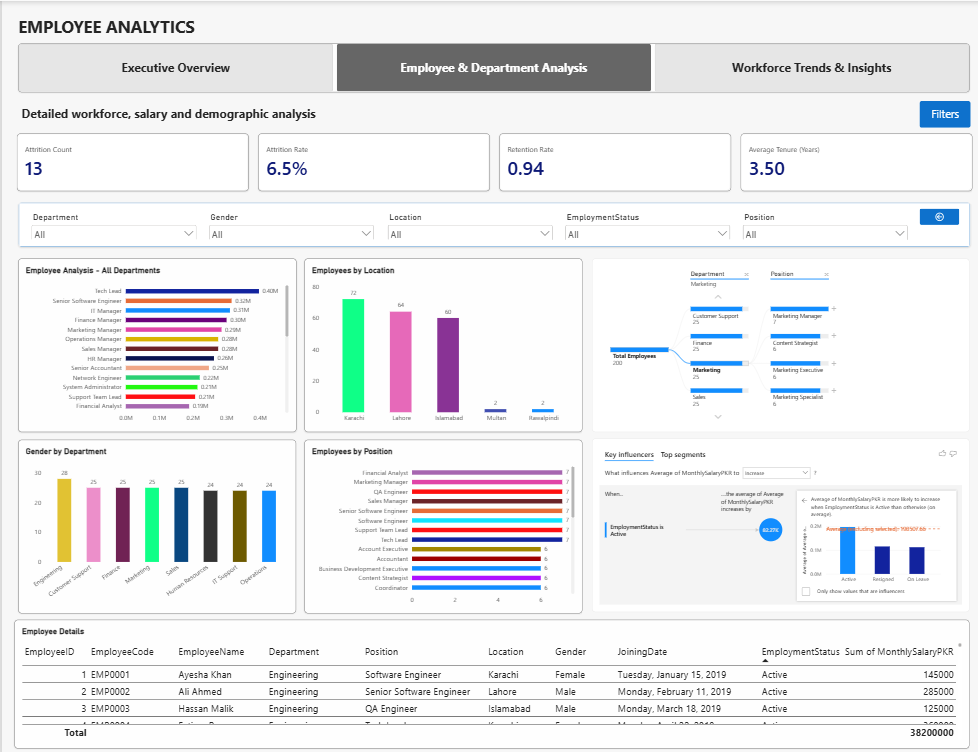

This screenshot's page, from the dashboard's own definition file:
{"tool":"powerbi","page":{"name":"Employee & Department Analysis","canvas":[2200,1700],"ordinal":1},"visuals":[{"type":"textbox","box":[36.5,30.9,500,60],"z":0},{"type":"clusteredBarChart","fields":{"Category":["Employees_Cleaned.Position"],"Y":["Employees_Cleaned.Average Salary"]},"box":[36.5,579,625.5,390.6],"z":0,"group":"g2"},{"type":"actionButton","box":[2063.2,224.9,115,60],"z":1000},{"type":"clusteredColumnChart","title":"Employees by Location","fields":{"Category":["Employees_Cleaned.Location"],"Y":["Employees_Cleaned.Total Employees"]},"box":[679.1,579,624.8,390.6],"z":1000,"group":"g2"},{"type":"group","id":"g1","title":"Group 1","box":[33.7,298,2147.5,129.3],"z":2000},{"type":"textbox","box":[36.5,233.3,715.9,60.6],"z":3000},{"type":"shape","box":[36.5,452.5,2141.9,101.2],"z":4000},{"type":"clusteredColumnChart","title":"Gender by Department","fields":{"Category":["Employees_Cleaned.Department"],"Y":["Employees_Cleaned.Total Employees"]},"box":[36.5,986.7,624.8,390.6],"z":4000,"group":"g2"},{"type":"slicer","fields":{"Values":["Employees_Cleaned.Department"]},"box":[61.8,475.7,380,60.8],"z":5000},{"type":"group","id":"g2","title":"Group 2","box":[36.5,579,1264.9,798.3],"z":5000},{"type":"clusteredBarChart","title":"Employees by Position","fields":{"Category":["Employees_Cleaned.Position"],"Y":["Employees_Cleaned.Total Employees"]},"box":[679.4,986.7,624.8,390.6],"z":6000,"group":"g2"},{"type":"tableEx","title":"Employee Details","fields":{"Values":["Employees_Cleaned.EmployeeID","Employees_Cleaned.EmployeeCode","Employees_Cleaned.EmployeeName","Employees_Cleaned.Department","Employees_Cleaned.Position","Employees_Cleaned.Location","Employees_Cleaned.Gender","Employees_Cleaned.JoiningDate","Employees_Cleaned.EmploymentStatus","Sum(Employees_Cleaned.MonthlySalaryPKR)"]},"box":[28.1,1391.4,2147.5,289.5],"z":6000},{"type":"pageNavigator","box":[36.5,95.6,2139.1,109.6],"z":7000},{"type":"slicer","fields":{"Values":["Employees_Cleaned.Gender"]},"box":[461.7,475.7,380,60.8],"z":7000},{"type":"keyDriversVisual","fields":{"ExplainBy":["Employees_Cleaned.Department","Employees_Cleaned.Position","Employees_Cleaned.Gender","Employees_Cleaned.Location","Employees_Cleaned.EmploymentStatus","Employees_Cleaned.Tenure Band"],"Target":["Employees_Cleaned.MonthlySalaryPKR"]},"box":[1326.7,983.8,848.9,390.7],"z":8000},{"type":"slicer","fields":{"Values":["Employees_Cleaned.Location"]},"box":[861.5,475.7,380,60.8],"z":9000},{"type":"decompositionTreeVisual","fields":{"Analyze":["Employees_Cleaned.Total Employees"],"ExplainBy":["Employees_Cleaned.Department","Employees_Cleaned.Position","Employees_Cleaned.Location","Employees_Cleaned.Gender","Employees_Cleaned.EmploymentStatus"]},"box":[1326.7,579,848.9,390.7],"z":9000},{"type":"slicer","fields":{"Values":["Employees_Cleaned.EmploymentStatus"]},"box":[1261.4,475.7,380,60.8],"z":10000},{"type":"cardVisual","fields":{"Data":["Employees_Cleaned.Attrition Count"]},"box":[33.7,298,520.6,129.7],"z":11000,"group":"g1"},{"type":"cardVisual","fields":{"Data":["Employees_Cleaned.Attrition Rate"]},"box":[576.5,298,520.6,129.7],"z":12000,"group":"g1"},{"type":"slicer","fields":{"Values":["Employees_Cleaned.Position"]},"box":[1661.2,475.7,380,60.8],"z":12000},{"type":"cardVisual","fields":{"Data":["Employees_Cleaned.Retention Rate"]},"box":[1119.3,298,520.6,129.7],"z":13000,"group":"g1"},{"type":"actionButton","box":[2063.2,466.2,89.9,37],"z":13000},{"type":"cardVisual","fields":{"Data":["Employees_Cleaned.Average Tenure (Years)"]},"box":[1662.1,298,520.6,129.7],"z":14000,"group":"g1"}]}

Visuals, with their boxes in screenshot pixels (x1, y1, x2, y2), scaled from the page's 2200x1700 canvas onto the 978x752 screenshot:
textbox: l=16, t=14, r=238, b=40
clusteredBarChart - Employees_Cleaned.Position x Employees_Cleaned.Average Salary: l=16, t=256, r=294, b=429
actionButton: l=917, t=99, r=968, b=126
"Employees by Location" clusteredColumnChart: l=302, t=256, r=580, b=429
"Group 1" group: l=15, t=132, r=970, b=189
textbox: l=16, t=103, r=334, b=130
shape: l=16, t=200, r=968, b=245
"Gender by Department" clusteredColumnChart: l=16, t=436, r=294, b=609
slicer - Employees_Cleaned.Department: l=27, t=210, r=196, b=237
"Group 2" group: l=16, t=256, r=579, b=609
"Employees by Position" clusteredBarChart: l=302, t=436, r=580, b=609
"Employee Details" tableEx: l=12, t=615, r=967, b=744
pageNavigator: l=16, t=42, r=967, b=91
slicer - Employees_Cleaned.Gender: l=205, t=210, r=374, b=237
keyDriversVisual - Employees_Cleaned.Department x Employees_Cleaned.Position: l=590, t=435, r=967, b=608
slicer - Employees_Cleaned.Location: l=383, t=210, r=552, b=237
decompositionTreeVisual - Employees_Cleaned.Total Employees x Employees_Cleaned.Department: l=590, t=256, r=967, b=429
slicer - Employees_Cleaned.EmploymentStatus: l=561, t=210, r=730, b=237
cardVisual - Employees_Cleaned.Attrition Count: l=15, t=132, r=246, b=189
cardVisual - Employees_Cleaned.Attrition Rate: l=256, t=132, r=488, b=189
slicer - Employees_Cleaned.Position: l=738, t=210, r=907, b=237
cardVisual - Employees_Cleaned.Retention Rate: l=498, t=132, r=729, b=189
actionButton: l=917, t=206, r=957, b=223
cardVisual - Employees_Cleaned.Average Tenure (Years): l=739, t=132, r=970, b=189
